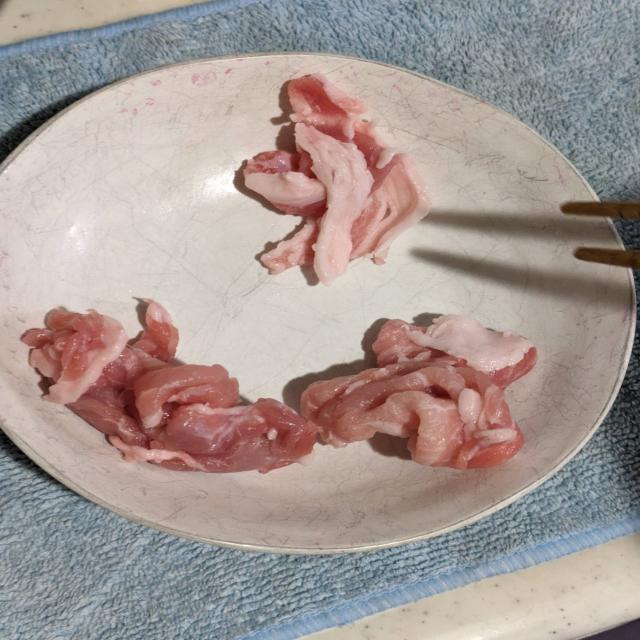NG raw pork,: (18, 288, 325, 484), (230, 65, 450, 294), (279, 310, 546, 473)
